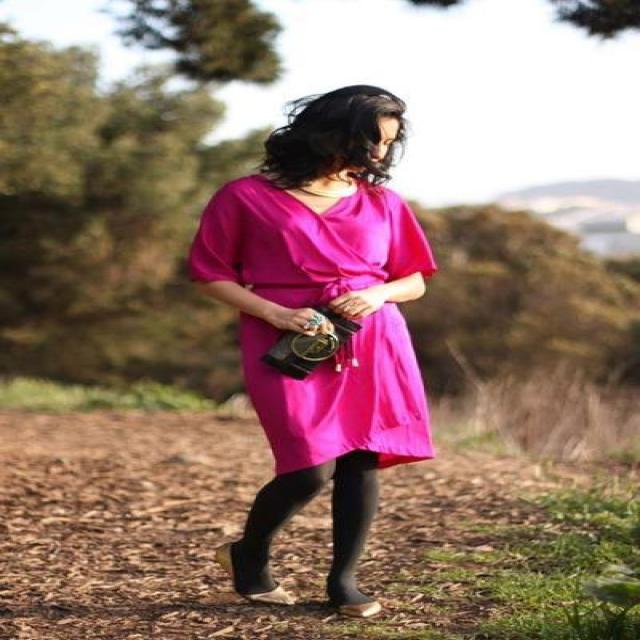bag: (264, 320, 360, 379)
dress: (178, 178, 434, 473)
shoe: (298, 583, 360, 622)
